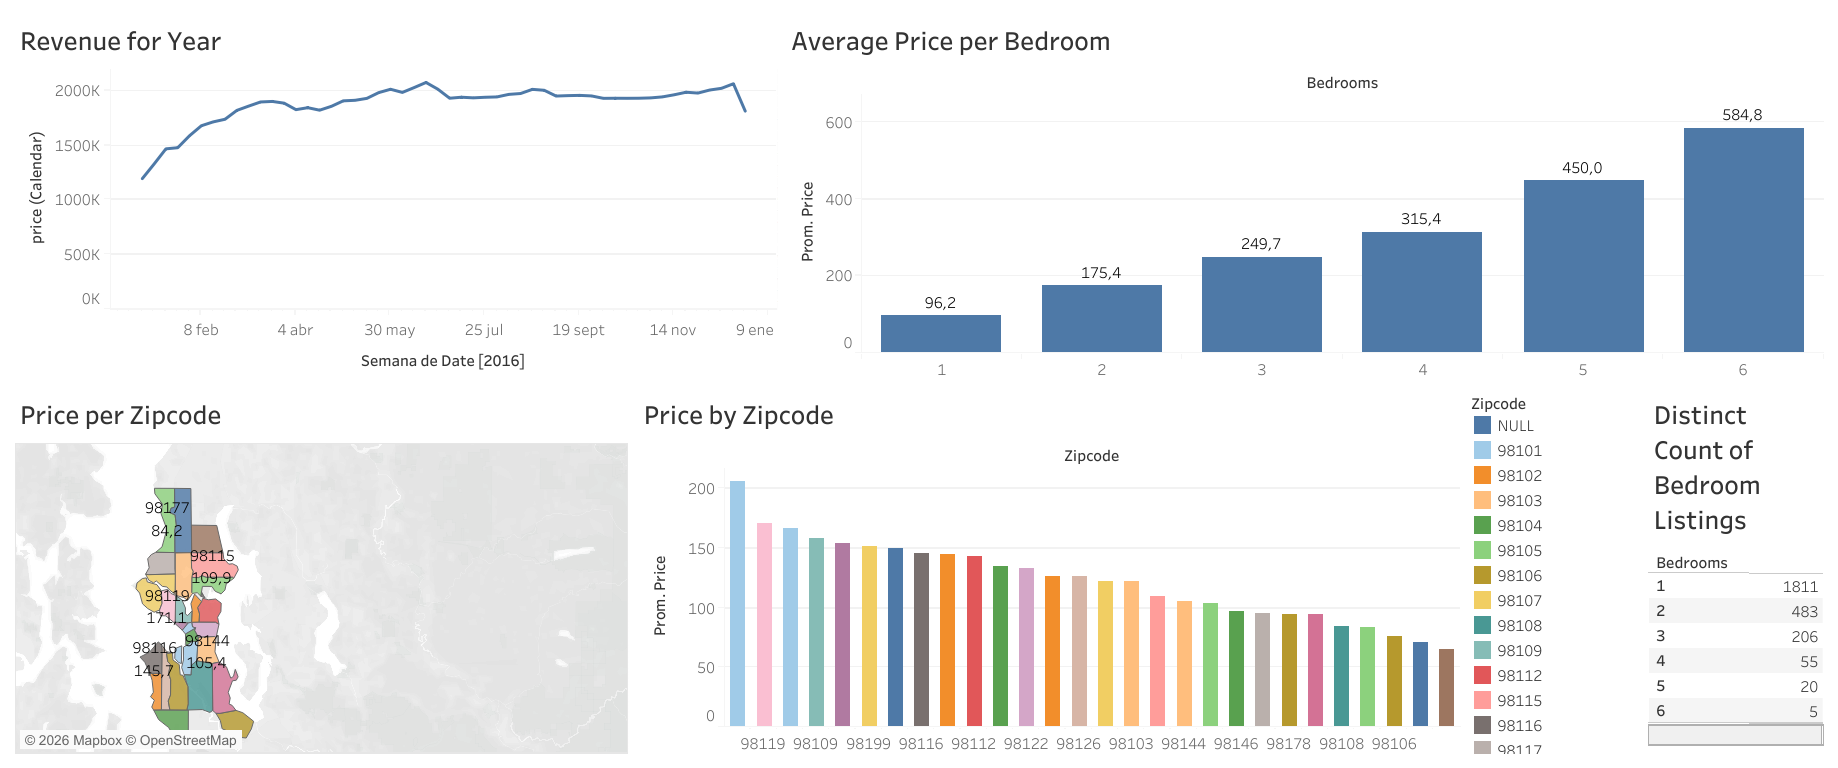

The page's visual inventory and layout, read from the dashboard file:
{"tool":"tableau","page":{"name":"Dashboard 1","canvas":[1000,1000],"units":"permille","ordinal":0},"visuals":[{"type":"worksheet","title":"Hoja 4","mark":"Automatic","rows":["price (Calendar)"],"cols":["date"],"box":[4.8,10,420,490]},{"type":"worksheet","title":"Hoja 2","mark":"Automatic","rows":["price"],"cols":["bedrooms"],"box":[424.9,10,570.3,490]},{"type":"worksheet","title":"Hoja 3","mark":"Multipolygon","box":[4.8,500,339.7,490]},{"type":"worksheet","title":"Hoja 1","mark":"Automatic","rows":["price"],"cols":["zipcode"],"box":[344.5,500,452.7,490]},{"type":"legend","title":"Hoja 1","param":"[federated.0jpwnc61ouw8lj1gvvpjq01lptsb].[none:zipcode:ok]","box":[797.2,500,97.2,490]},{"type":"worksheet","title":"Hoja 5","mark":"Automatic","rows":["bedrooms"],"box":[894.4,500,100.8,490]}]}

Visuals, with their boxes on the dashboard's canvas, which has no fixed pixel size, in thousandths of its width and height (x1, y1, x2, y2). These are canvas units, not pixel positions in the 1838x768 screenshot, which may show the page scaled, cropped or inside an application window:
"Hoja 4" worksheet: rect(5, 10, 425, 500)
"Hoja 2" worksheet: rect(425, 10, 995, 500)
"Hoja 3" worksheet (Multipolygon marks): rect(5, 500, 344, 990)
"Hoja 1" worksheet: rect(344, 500, 797, 990)
"Hoja 1" legend: rect(797, 500, 894, 990)
"Hoja 5" worksheet: rect(894, 500, 995, 990)
